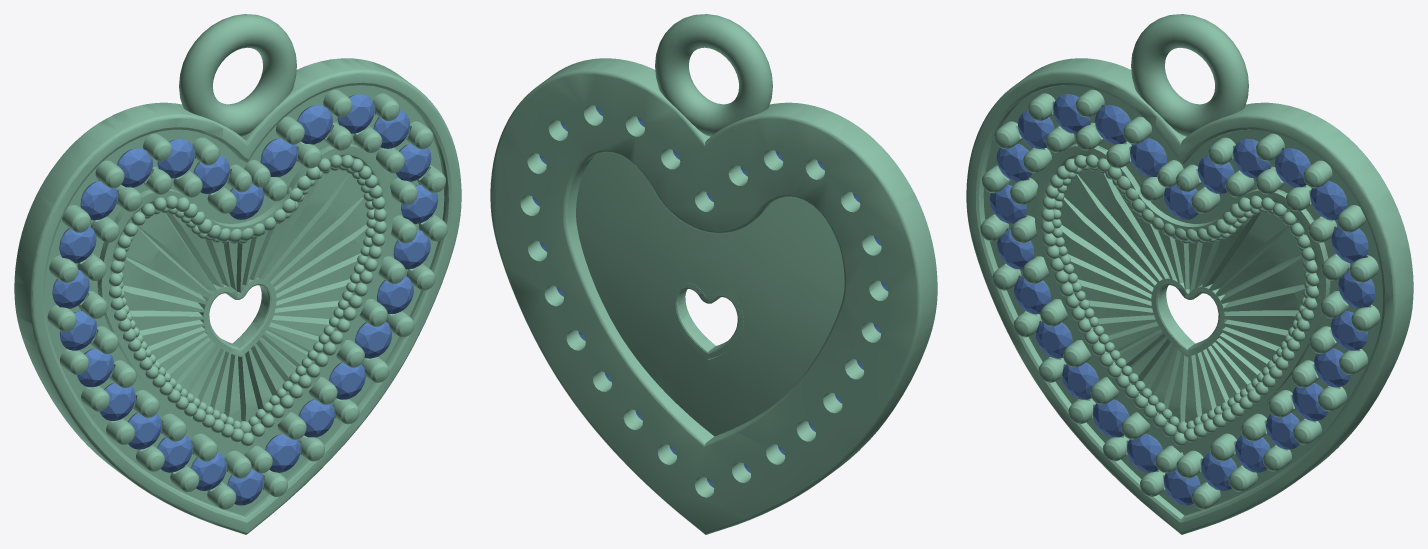
3 renders of one model, left to right at view 1: azimuth 30°, elevation 25°; view 2: azimuth 150°, elevation 25°; view 3: azimuth 330°, elevation 25°, orthographic.
Visible parts, largest first — view 1: object 1, Gem (×26); view 2: object 1; view 3: object 1, Gem (×26).
Boxes of the visible parts, x1,y1,x2,y2 form: object 1: (14,14,461,534); Gem (×26): (52,94,438,505); object 1: (490,14,937,534); object 1: (966,14,1413,534); Gem (×26): (989,94,1375,505).
Bounding box in the file's own units: 2.64 × 2.99 × 0.2855.
